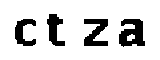a: (117, 17, 147, 51)
c: (15, 17, 39, 52)
t: (45, 10, 73, 50)
z: (81, 16, 113, 52)
